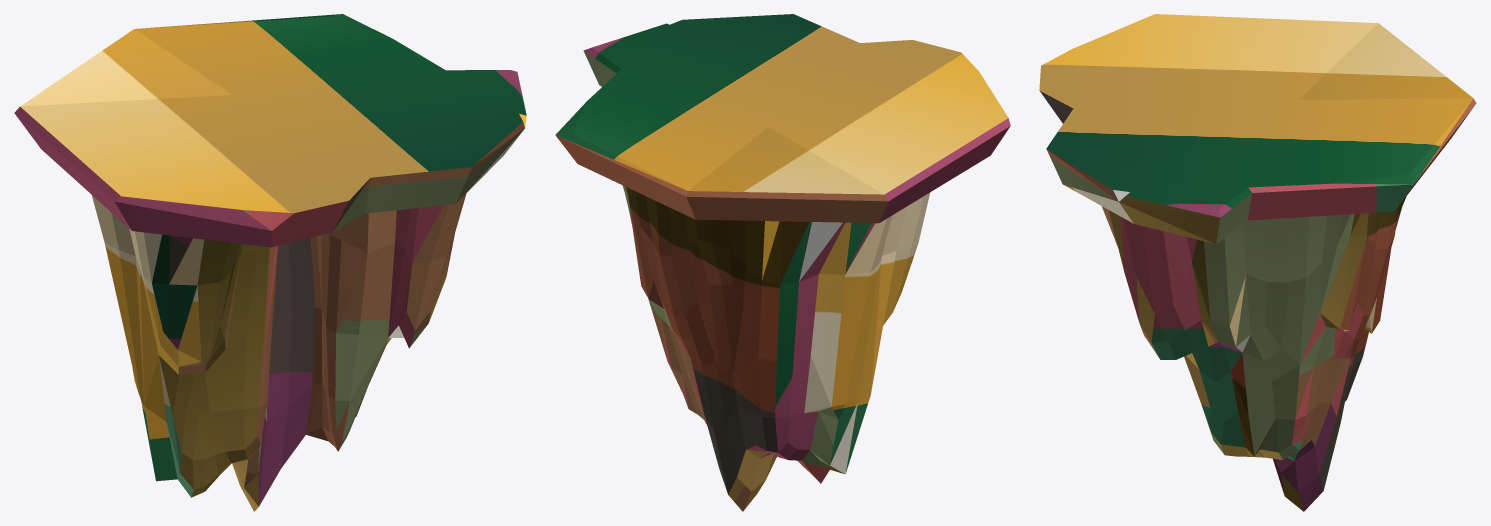
The model's file is platform4.fbx.
3 views of the same model, side by side, from view 1: azimuth 30°, elevation 25°; view 2: azimuth 150°, elevation 25°; view 3: azimuth 270°, elevation 25° (orthographic). The views are drawn at different scales.
Visible parts, largest first — view 1: floe_014, Hill_desert_005_003; view 2: floe_014, Hill_desert_005_003; view 3: floe_014, Hill_desert_005_003.
Boxes of the visible parts, x1,y1,x2,y2 form: floe_014: (14,14,526,247); Hill_desert_005_003: (92,193,466,511); floe_014: (555,14,1010,223); Hill_desert_005_003: (622,185,930,511); floe_014: (1039,14,1476,243); Hill_desert_005_003: (1101,196,1406,511).
Bounding box in the file's own units: 13.59 × 12.68 × 12.55.
